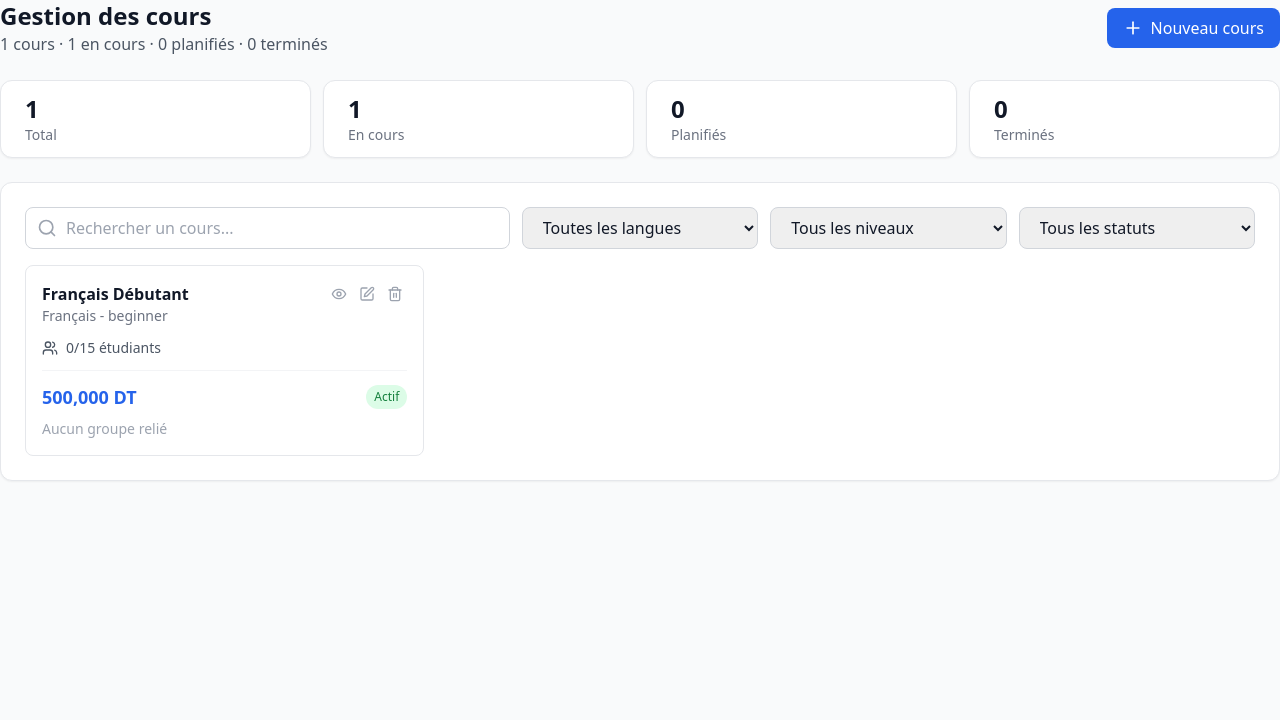
it: Course programme › shows the programme with each module and its submodules
Click the button named "Consulter Français Débutant": (339, 294) [327,282,351,306]
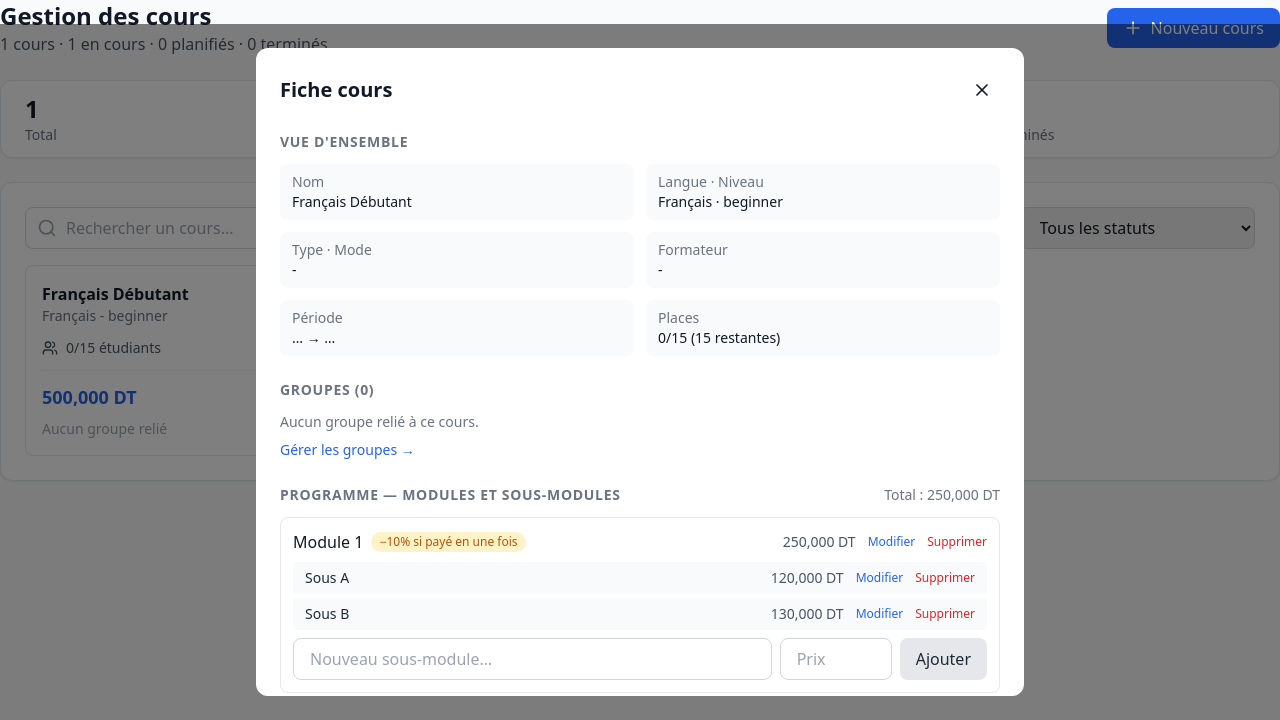
Expected: the heading "Programme — modules et sous-modules" is shown, [280,485,621,505]
Expected: the text "Sous A" is shown, [305,568,349,588]
Expected: the text "Sous B" is shown, [305,604,349,624]
